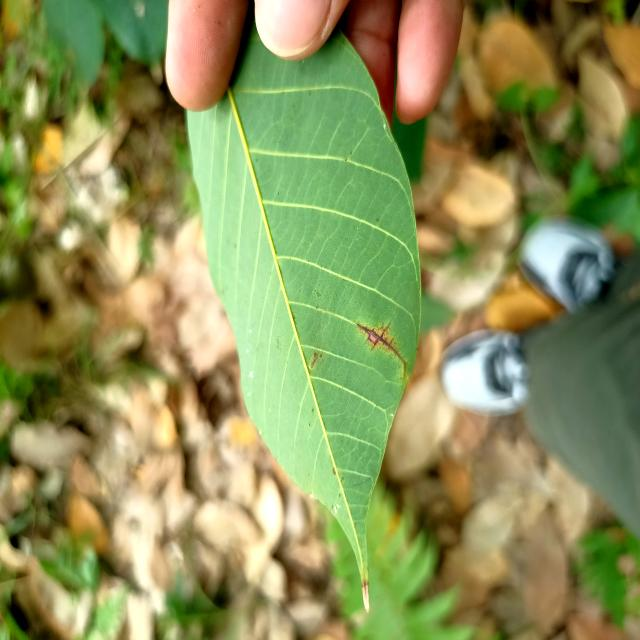Colletotrichum: (320, 354, 322, 358)
Corynespora: (356, 320, 406, 370)
Leaf-Blight: (362, 584, 370, 612)
